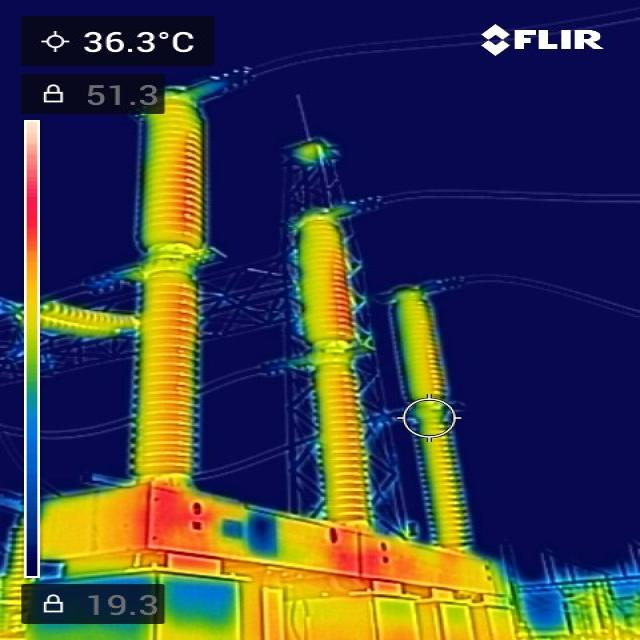Zona_Atenco: (176, 139, 202, 232), (388, 552, 454, 586), (336, 266, 347, 335)
Zona_Critica: (143, 491, 191, 553), (341, 542, 393, 576)
